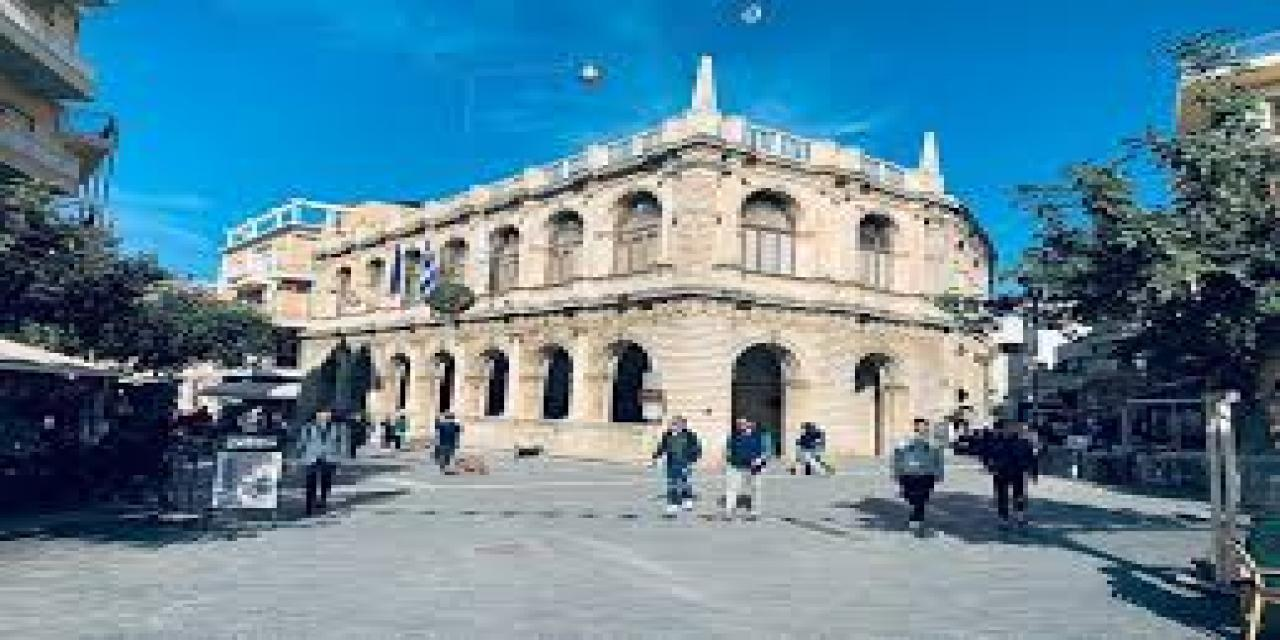Loggia: (311, 51, 1020, 475)
